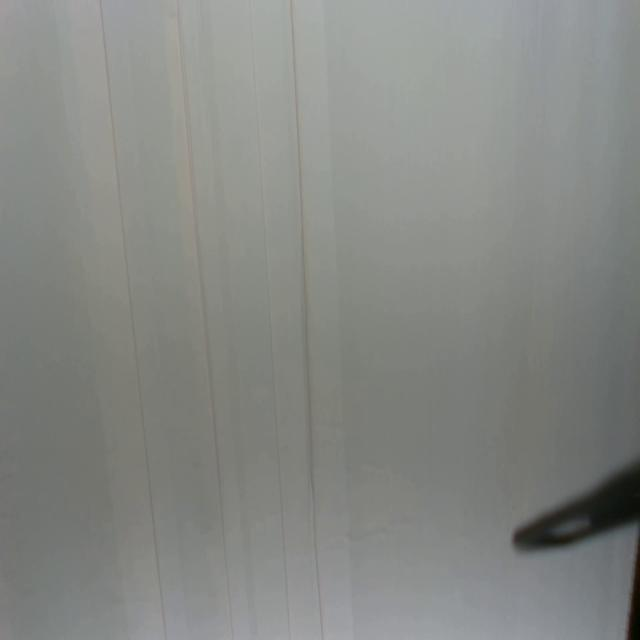crease: (100, 0, 168, 640), (177, 0, 235, 640), (248, 0, 290, 640), (290, 0, 324, 640)
